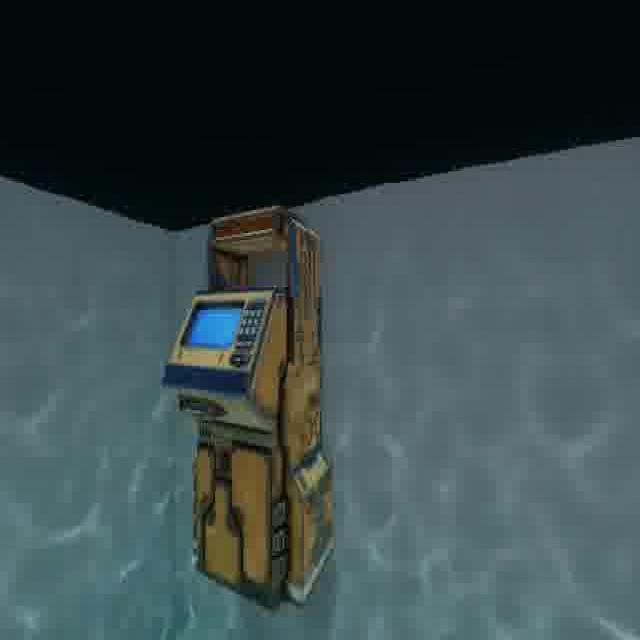Control Panel: (154, 199, 356, 621)
